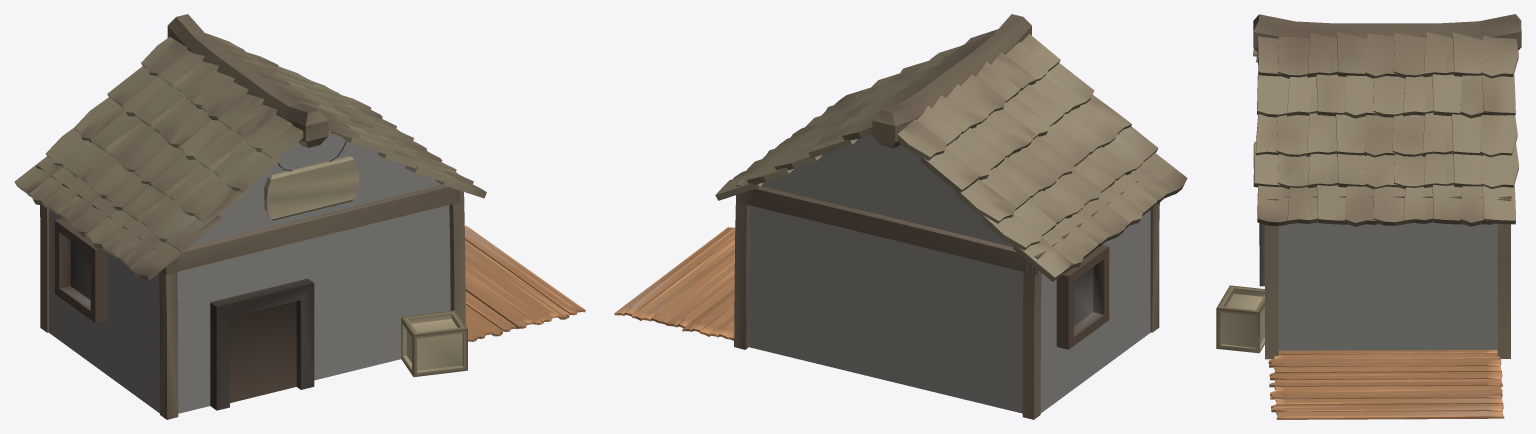
The model's file is House02 (1).fbx.
The picture shows the model from 3 angles, left to right: view 1: azimuth 30°, elevation 25°; view 2: azimuth 150°, elevation 25°; view 3: azimuth 270°, elevation 25°; orthographic projection. The views are drawn at different scales.
Visible parts, largest first — view 1: House02_LOD0; view 2: House02_LOD0; view 3: House02_LOD0.
Boxes of the visible parts, bbox=[...] form: House02_LOD0: bbox=[14, 14, 585, 419]; House02_LOD0: bbox=[614, 14, 1187, 419]; House02_LOD0: bbox=[1216, 14, 1521, 419].
Size of what is drawn, in the model's own units: 276 by 161 by 165.
